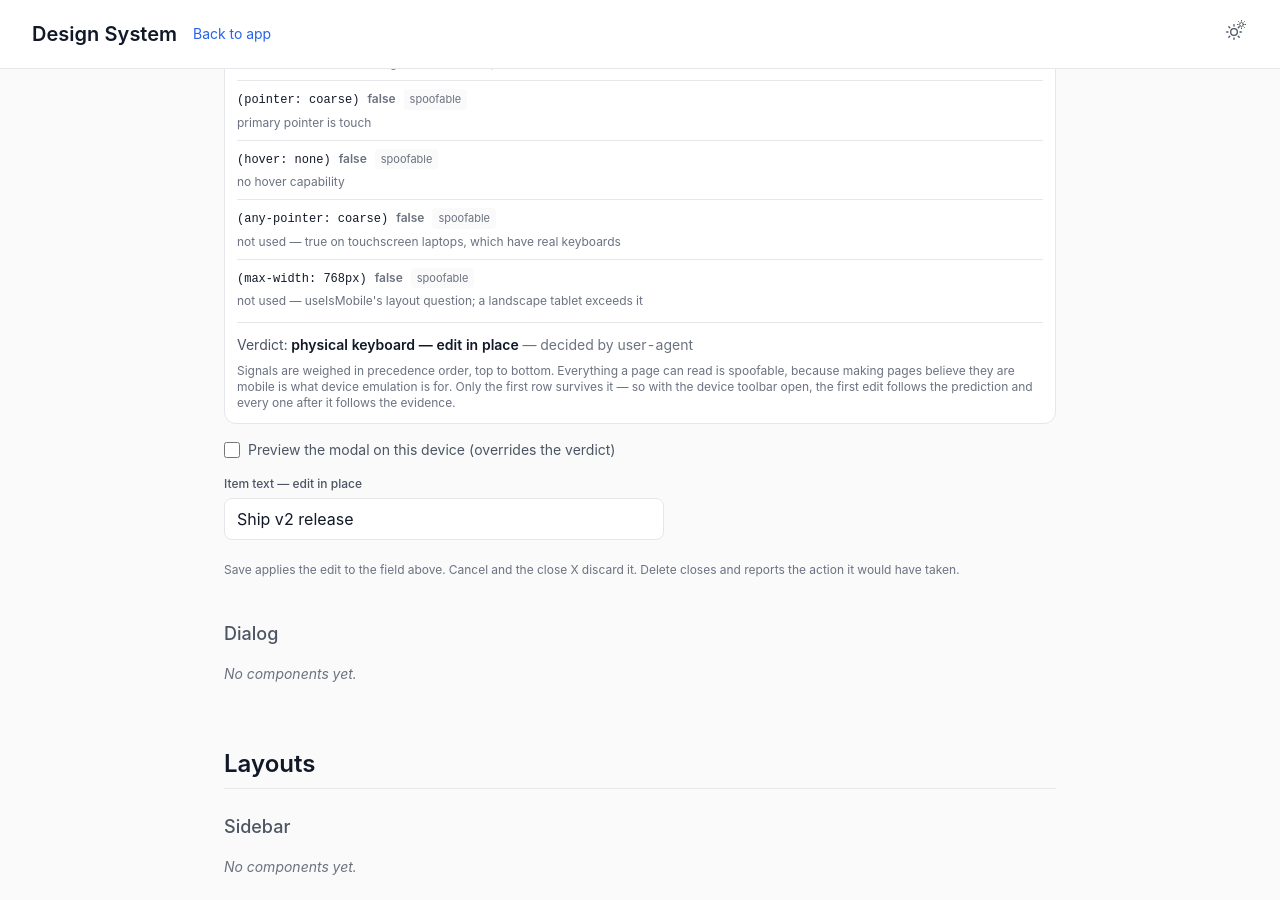
Scenario: DesignSystem — Edit Modal gated on on-screen-keyboard detection › lets a desktop reviewer preview the modal the verdict would withhold
The width and height of the screenshot is (1280, 900).
(page scrolled)
Click the checkbox labelled "Preview the modal on this device (overrides the verdict)" at (232, 450), box 224,442 -> 240,458
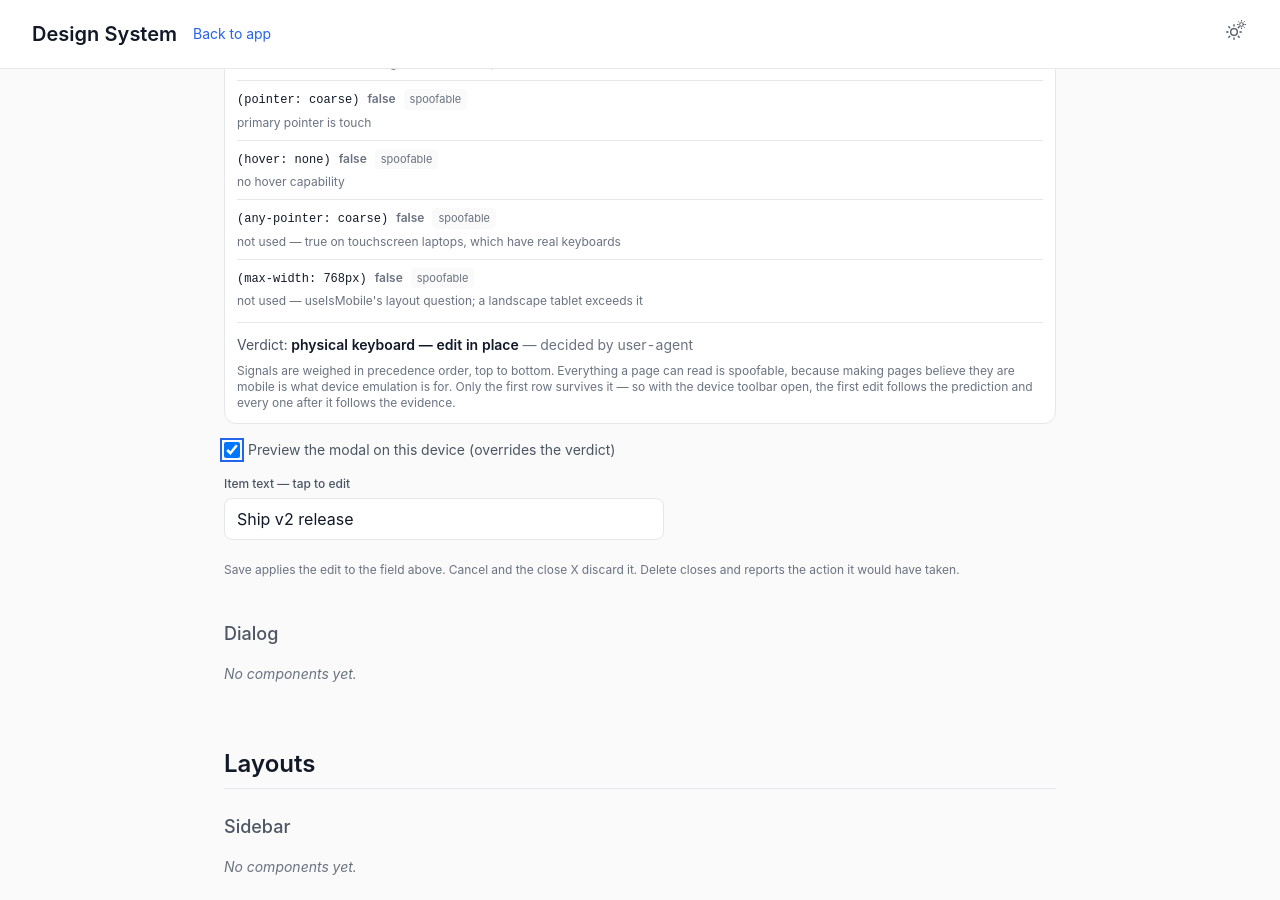
Click the field labelled "Item text — tap to edit" at (444, 519), box 224,498 -> 664,540
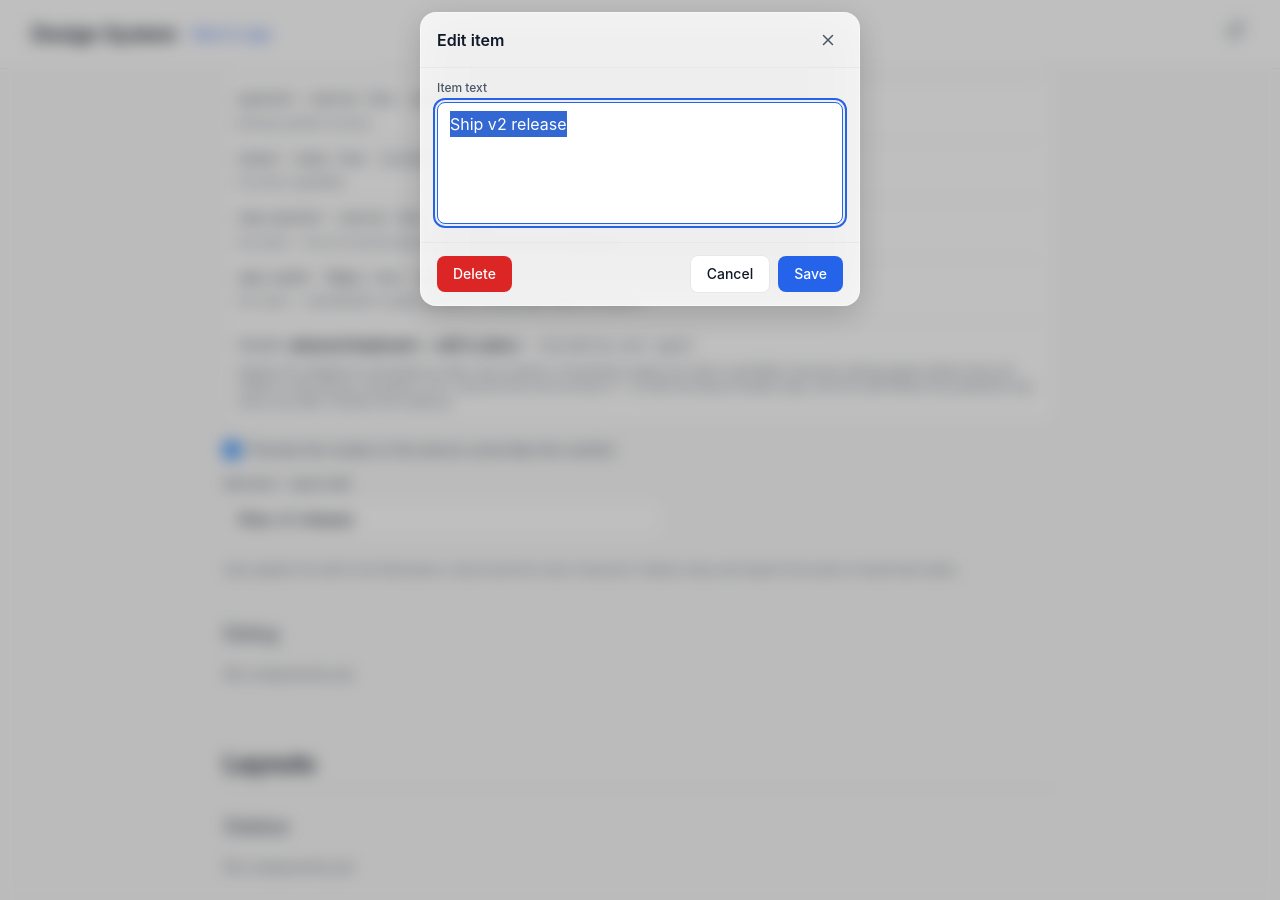
Result: the dialog "Edit item" is shown at 420,12 -> 860,306
